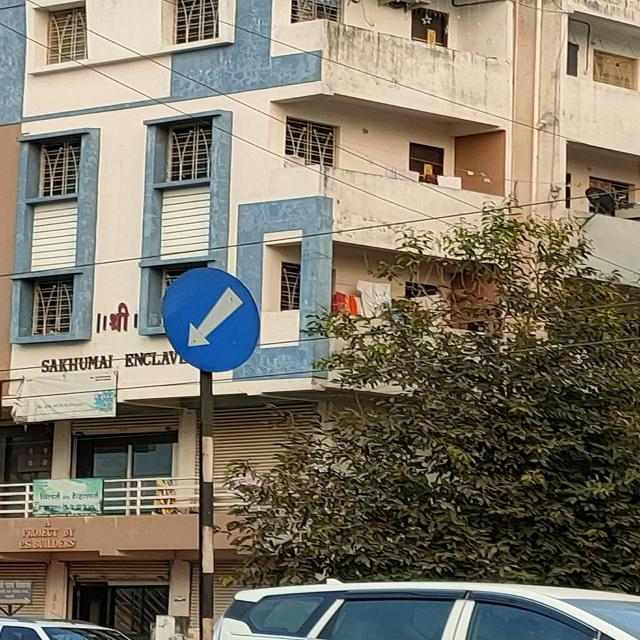COMPULSARY_KEEP_LEFT: (154, 258, 269, 378)
